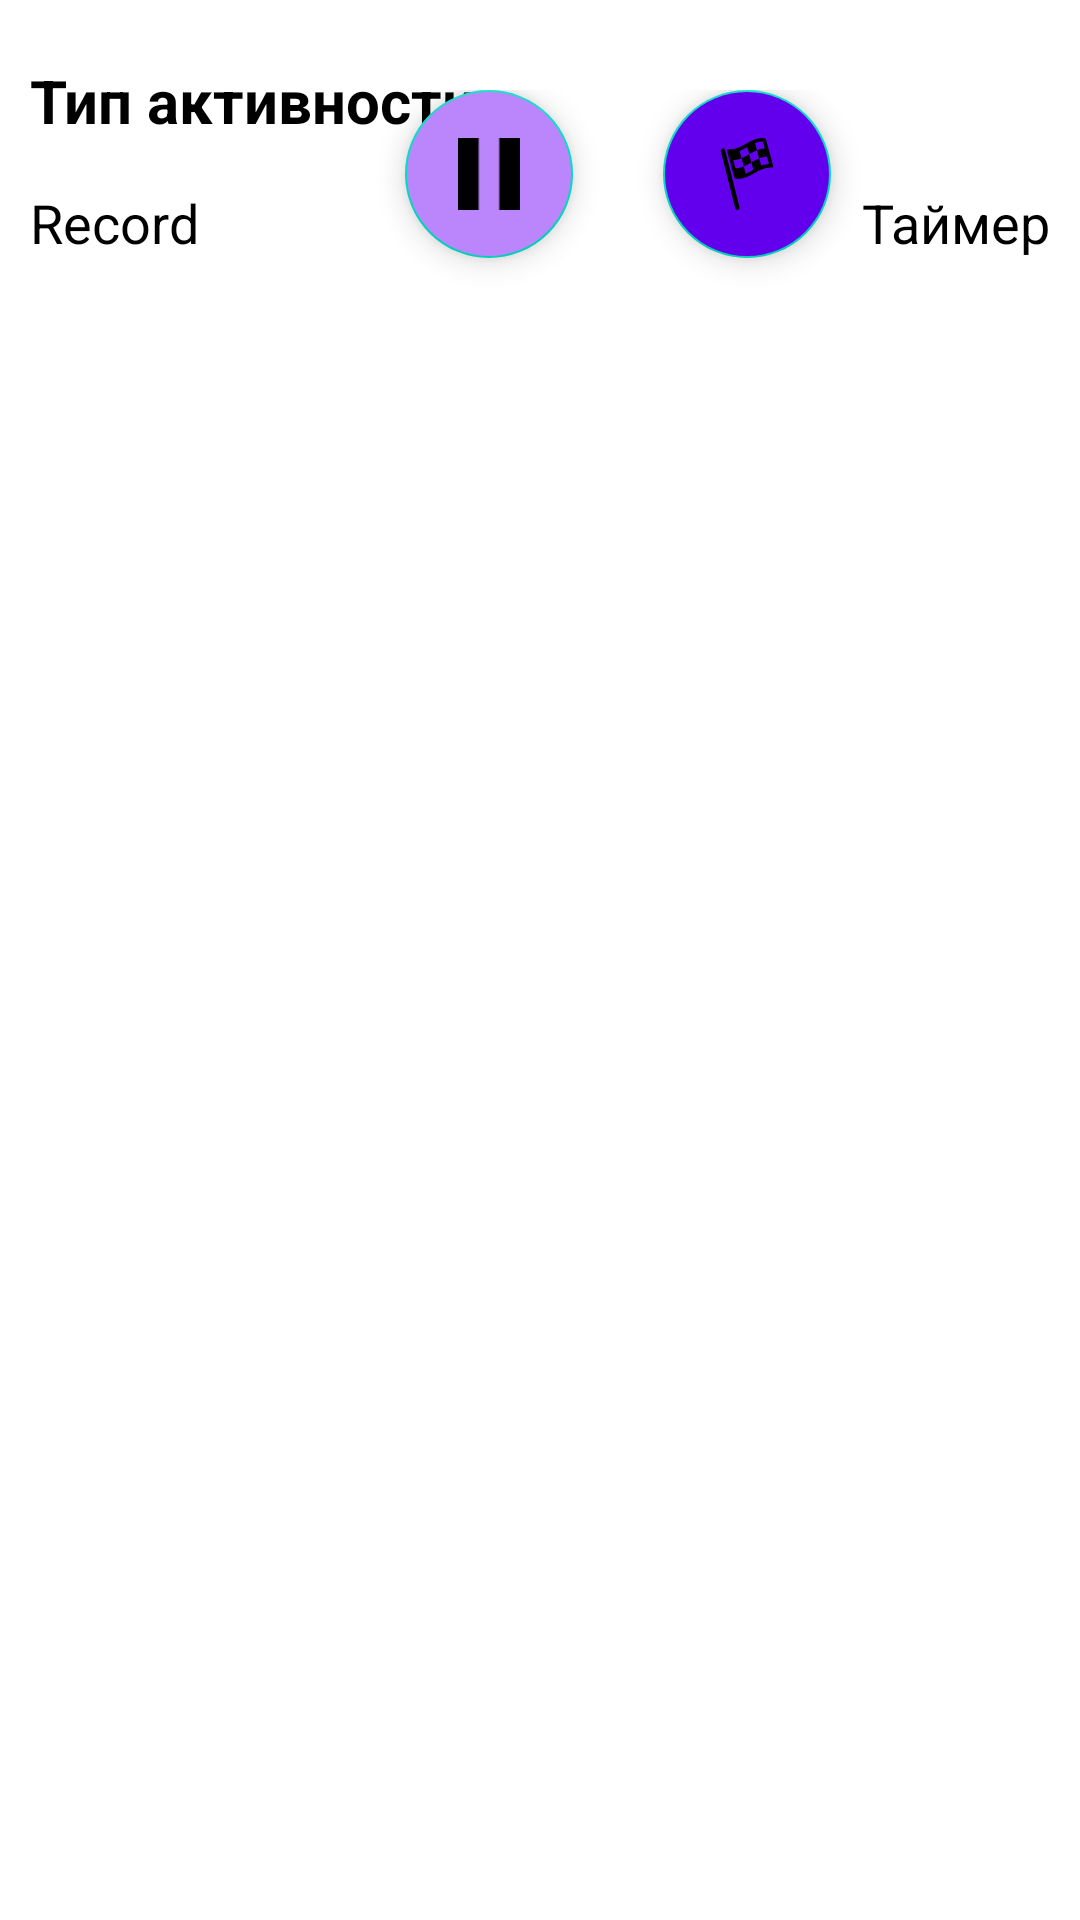

Screen size 1080px×1920px. Icon name, then its center in pixels as [x,y]:
finish: [747,174]
pause: [489,174]
